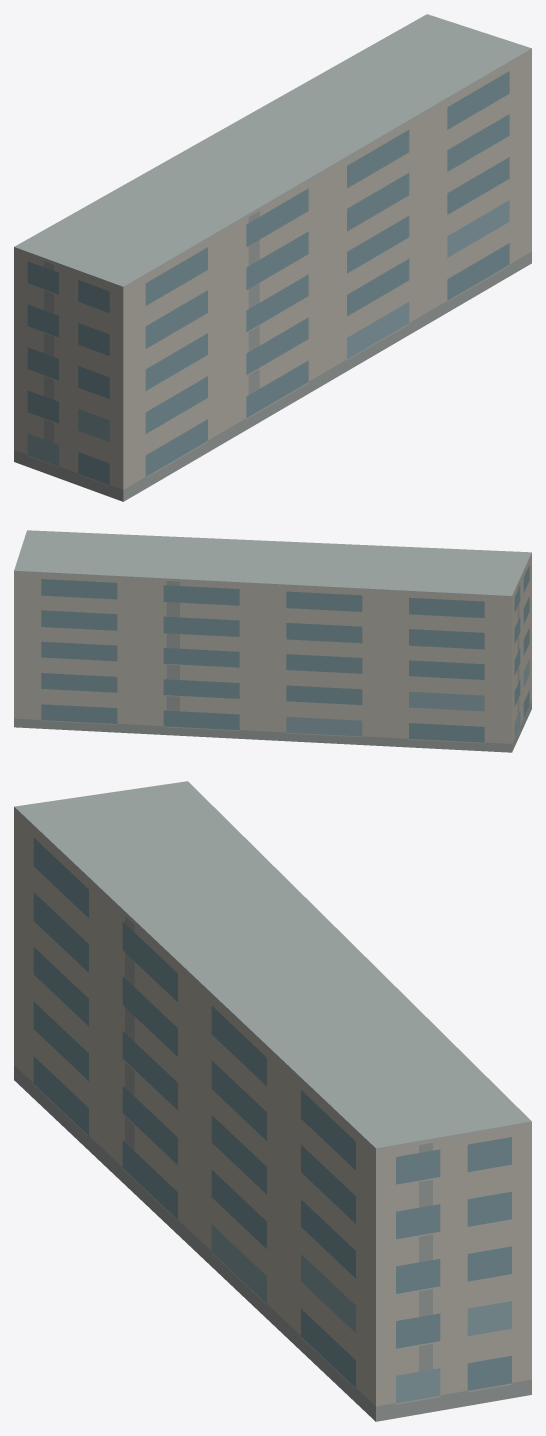
Rendered from residential-824484e6-0c0c-4613-83bb-6e73ff4e9635.glb.
3 views of the same model, one above another, from view 1: azimuth 30°, elevation 25°; view 2: azimuth 150°, elevation 25°; view 3: azimuth 270°, elevation 25° (orthographic). The views are drawn at different scales.
Visible parts, largest first — view 1: residential-824484e6-0c0c-4613-83bb-6e73ff4e9635.tmp; view 2: residential-824484e6-0c0c-4613-83bb-6e73ff4e9635.tmp; view 3: residential-824484e6-0c0c-4613-83bb-6e73ff4e9635.tmp.
Boxes of the visible parts, <box> form: residential-824484e6-0c0c-4613-83bb-6e73ff4e9635.tmp: <box>14,14,531,501</box>; residential-824484e6-0c0c-4613-83bb-6e73ff4e9635.tmp: <box>14,530,531,752</box>; residential-824484e6-0c0c-4613-83bb-6e73ff4e9635.tmp: <box>14,781,531,1421</box>.
Size of the model in its own units: 43.93 by 15.25 by 26.18.
